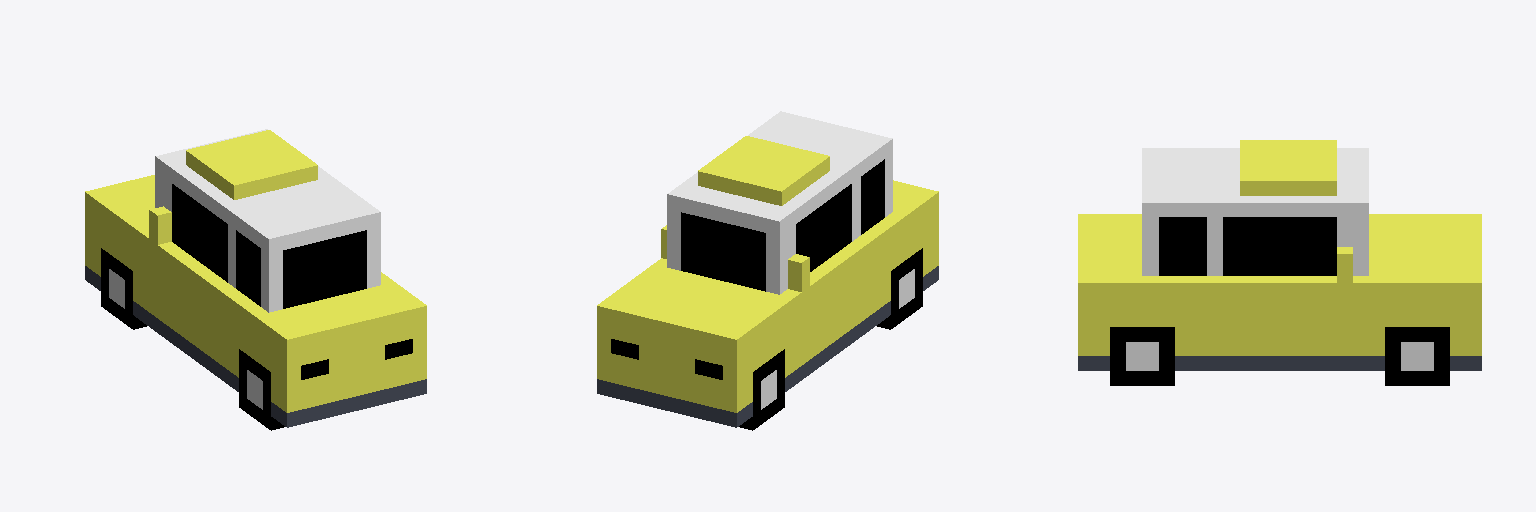
3 renders of one model, left to right at view 1: azimuth 30°, elevation 25°; view 2: azimuth 150°, elevation 25°; view 3: azimuth 270°, elevation 25°, orthographic.
Bounding box in the file's own units: 10 × 13 × 25.
Materials: 1 (1 with a texture image).